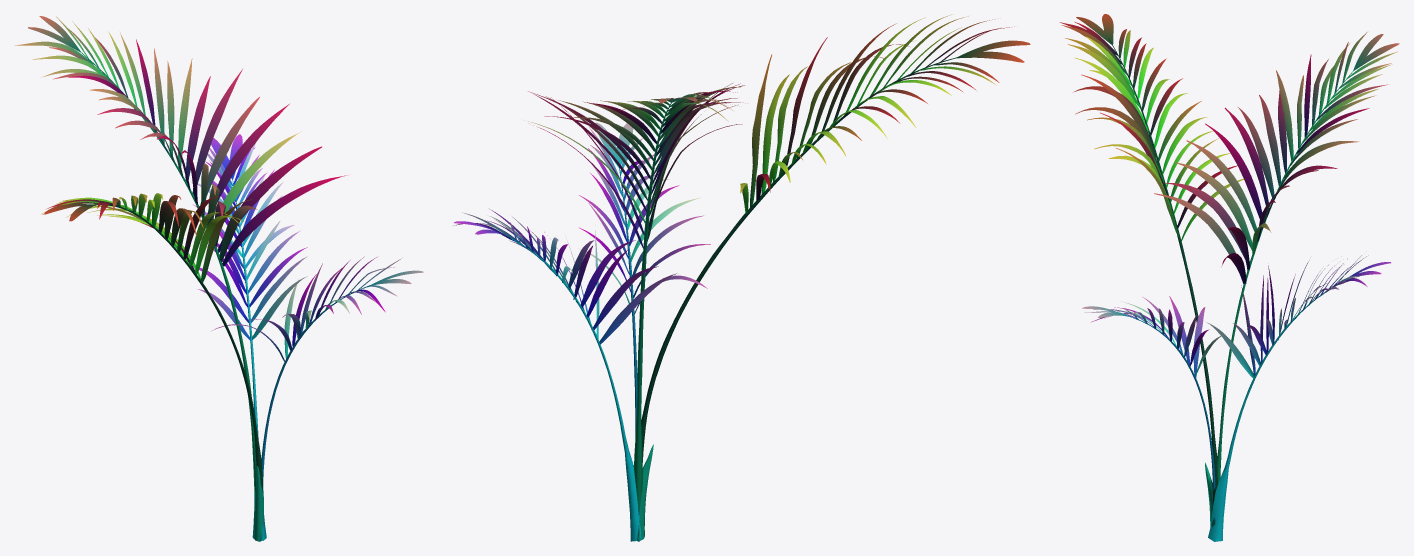
The model's file is ukgkcilia_VarC_LOD0.fbx.
The picture shows the model from 3 angles, left to right: view 1: azimuth 30°, elevation 25°; view 2: azimuth 150°, elevation 25°; view 3: azimuth 270°, elevation 25°; orthographic projection. The views are drawn at different scales.
Parts seen in each view (by area): view 1: _yvas_VarC_LOD1; view 2: _yvas_VarC_LOD1; view 3: _yvas_VarC_LOD1.
Part boxes in pixels (x1,y1,x2,y2): _yvas_VarC_LOD1: (15, 16, 423, 541); _yvas_VarC_LOD1: (453, 14, 1030, 541); _yvas_VarC_LOD1: (1059, 14, 1399, 541).
Bounding box in the file's own units: 131 × 160 × 112.
